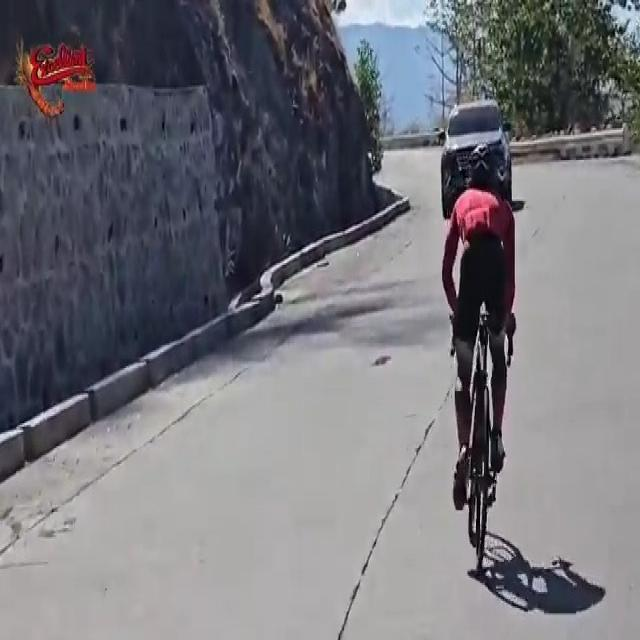bike: (442, 148, 517, 577)
car: (435, 98, 518, 216)
